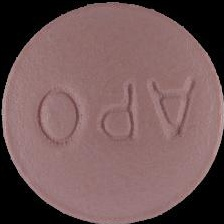60505-4504: (0, 0, 224, 224)
